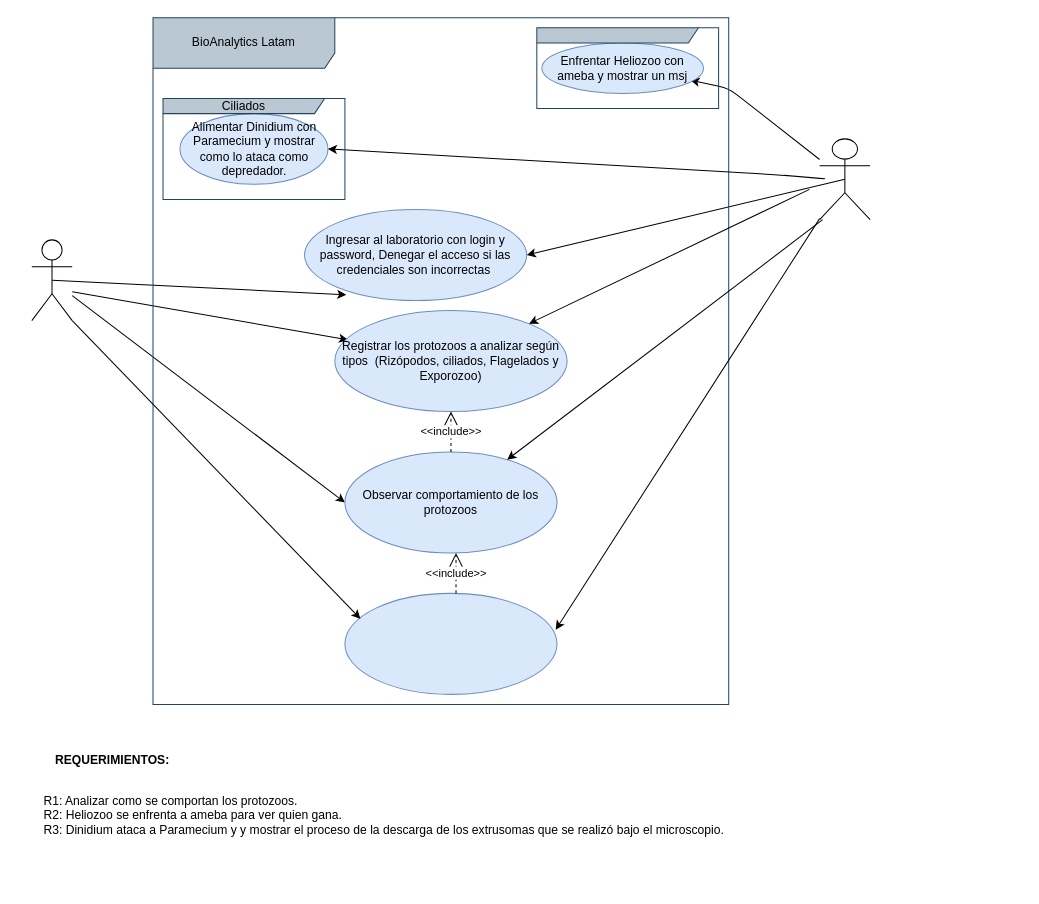
Some shapes in this 1039 by 904 pixel diagram are drawn without their labels. The shapes that lost their labels are listed below. From the top down, each one's centre as x and y in pixels, then its label:
point 627,68: Rizopodos
point 844,179: APP "BioAnalytics "
point 51,280: Microbiologo
point 450,643: Analizar caracteristicas mas importantes y anotarlas
